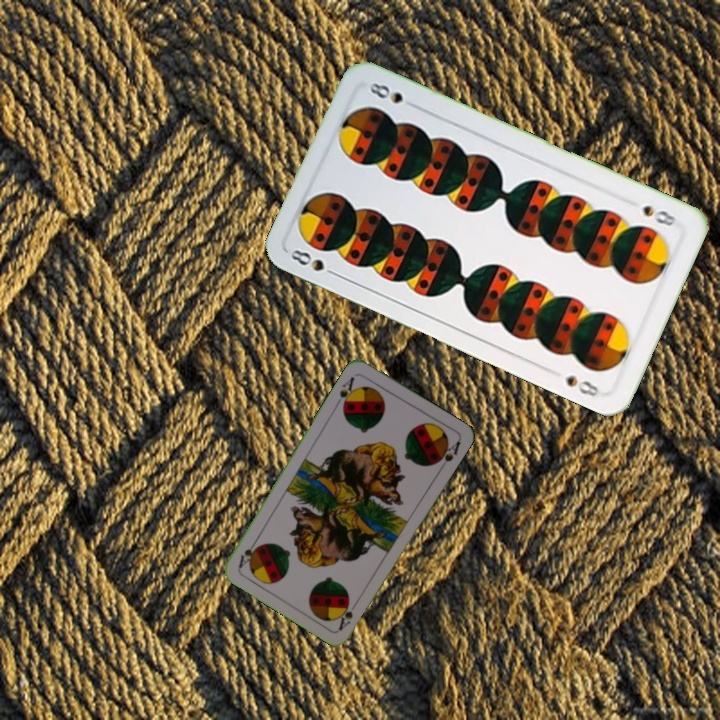S8: (287, 245, 342, 280), (639, 201, 679, 229)
SA: (332, 372, 358, 411), (334, 596, 361, 633)
